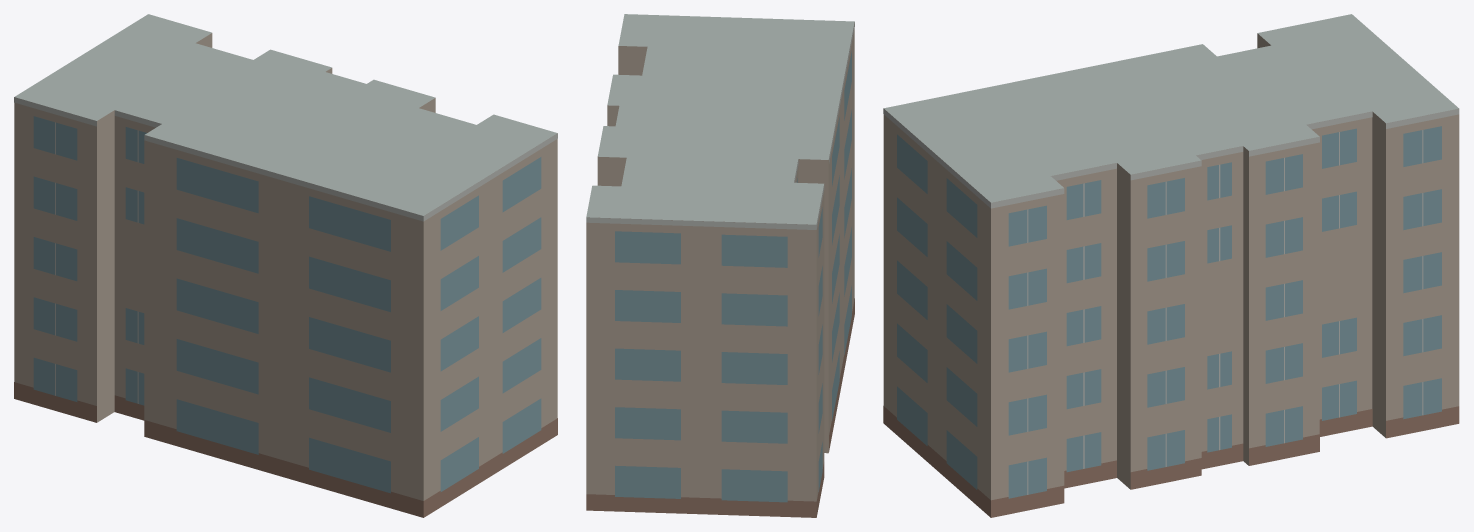
Rendered from survey-upis-32614527.glb.
3 views of the same model, side by side, from view 1: azimuth 30°, elevation 25°; view 2: azimuth 150°, elevation 25°; view 3: azimuth 270°, elevation 25° (orthographic). The views are drawn at different scales.
Parts seen in each view (by area): view 1: survey-upis-32614527.tmp; view 2: survey-upis-32614527.tmp; view 3: survey-upis-32614527.tmp.
Part boxes in pixels (x1,y1,x2,y2): survey-upis-32614527.tmp: [14, 14, 557, 517]; survey-upis-32614527.tmp: [586, 14, 854, 517]; survey-upis-32614527.tmp: [883, 14, 1459, 517].
Size of the model in its own units: 17.1 by 13.3 by 22.04.
